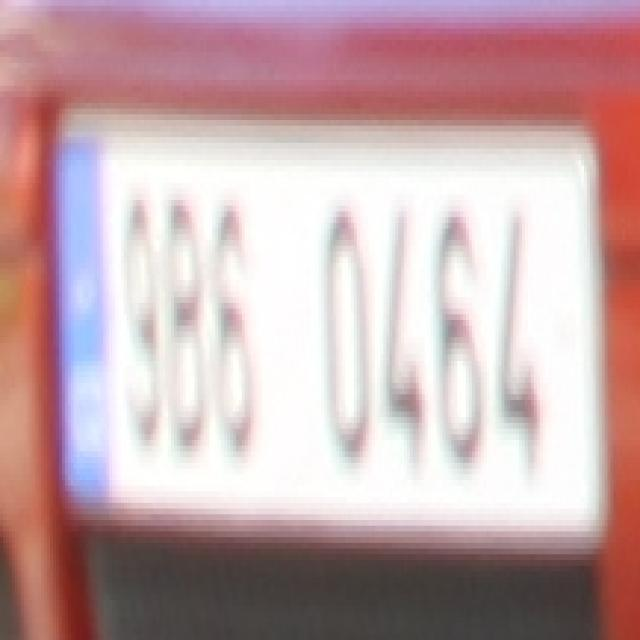0: (318, 194, 378, 463)
4: (489, 200, 548, 474), (374, 200, 428, 474)
8: (428, 195, 490, 480), (204, 200, 256, 457)
9: (112, 188, 162, 463)
B: (162, 188, 201, 468)
